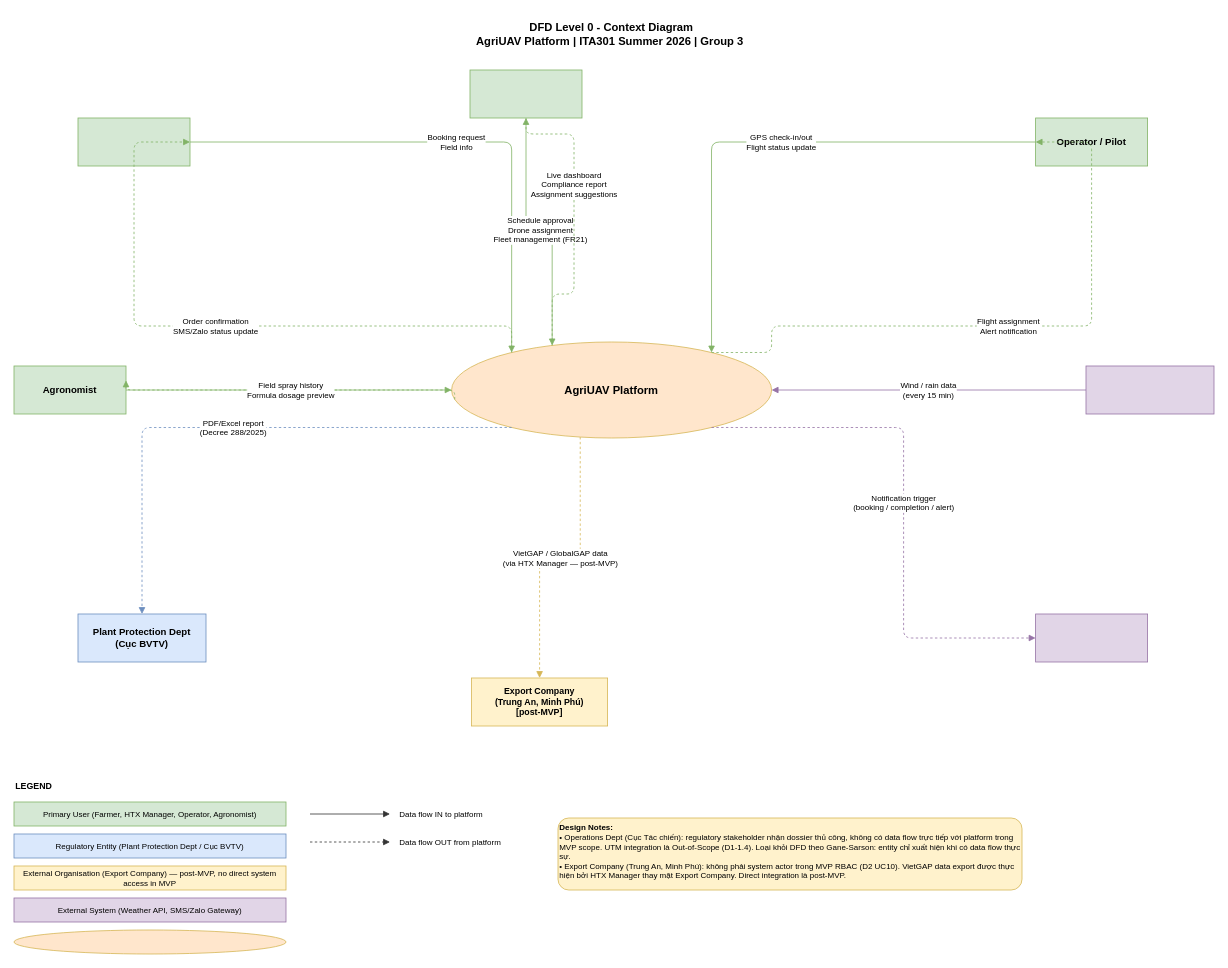
This 1228x968 diagram has some shape labels left out. The shapes that lost their labels are listed below. From the top down, each one's centre as x and y in pixels, then its label:
the point at 525,93: HTX Manager
the point at 133,141: Farmer
the point at 1149,389: Weather API (OpenWeatherMap)
the point at 1091,637: SMS / Zalo Gateway
the point at 149,941: Central Process (AgriUAV Platform)
